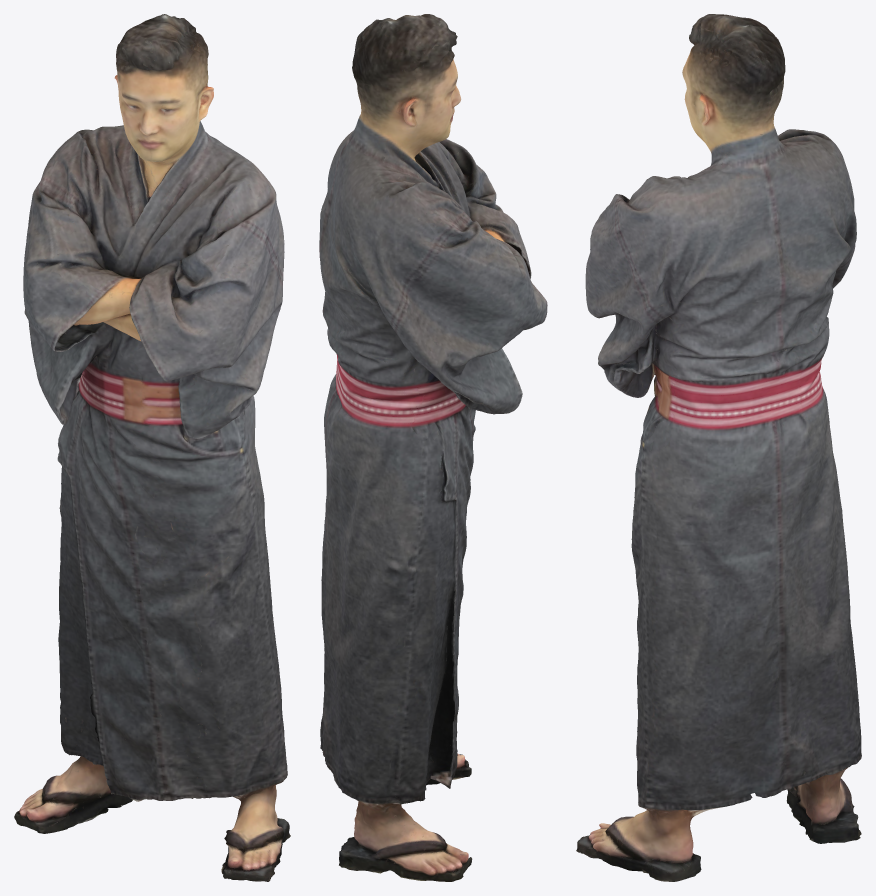
Rendered from kimono_nagase.glb.
3 views of the same model, side by side, from view 1: azimuth 30°, elevation 25°; view 2: azimuth 150°, elevation 25°; view 3: azimuth 270°, elevation 25° (orthographic).
Parts seen in each view (by area): view 1: Object_3, Object_2; view 2: Object_2, Object_3; view 3: Object_3, Object_2.
Boxes of the visible parts, bbox=[...] form: Object_3: bbox=[14, 34, 289, 879]; Object_2: bbox=[23, 14, 290, 881]; Object_2: bbox=[319, 14, 547, 858]; Object_3: bbox=[320, 33, 515, 881]; Object_3: bbox=[579, 23, 861, 881]; Object_2: bbox=[576, 14, 861, 881].
Size of the model in its own units: 7.3 by 25.16 by 7.96.
Materials: 1 (1 with a texture image).
